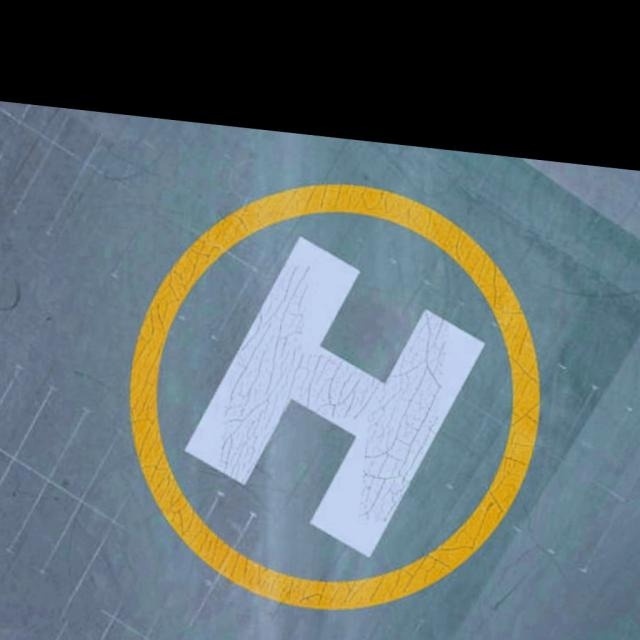helipad: (122, 180, 551, 620)
